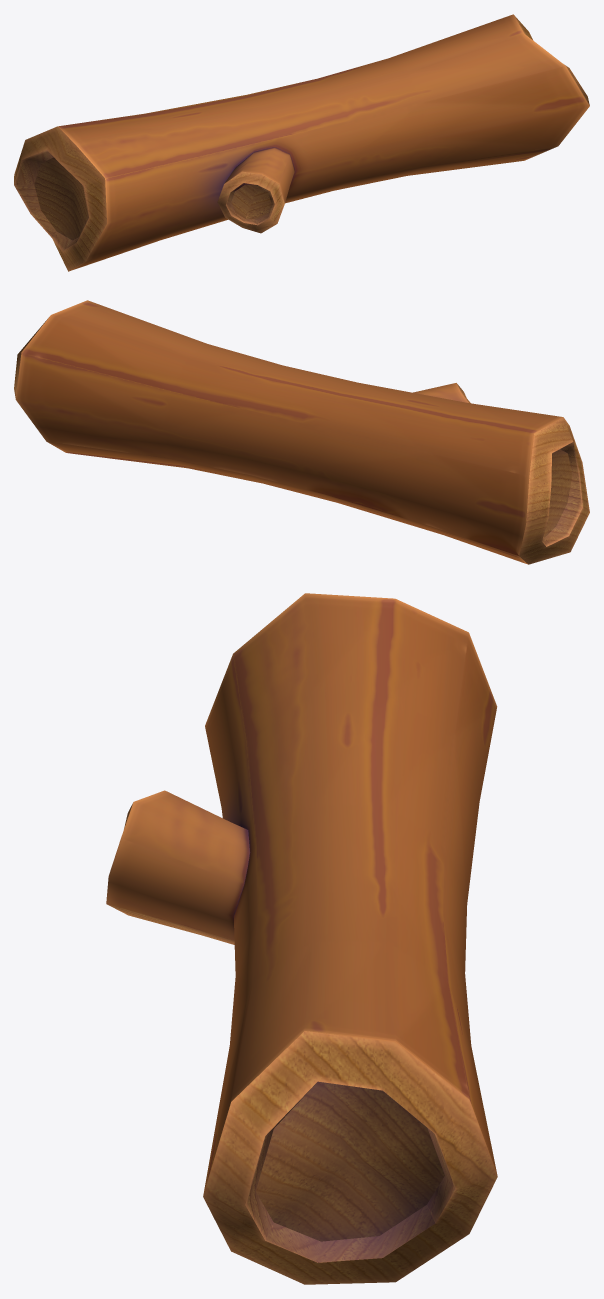
The model's file is Log.gltf.
3 renders of one model, top to bottom at view 1: azimuth 30°, elevation 25°; view 2: azimuth 150°, elevation 25°; view 3: azimuth 270°, elevation 25°, orthographic. The views are drawn at different scales.
Parts seen in each view (by area): view 1: Wood; view 2: Wood; view 3: Wood.
Boxes of the visible parts, x1=… form: Wood: x1=14, y1=14, x2=589, y2=271; Wood: x1=14, y1=300, x2=589, y2=564; Wood: x1=106, y1=593, x2=497, y2=1284.
Size of the model in its own units: 1.02 by 0.2371 by 0.3313.
Materials: 1 (1 with a texture image).
